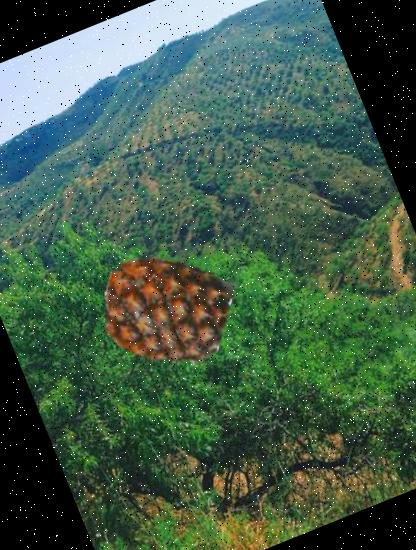Pineapple: (84, 227, 245, 388)
